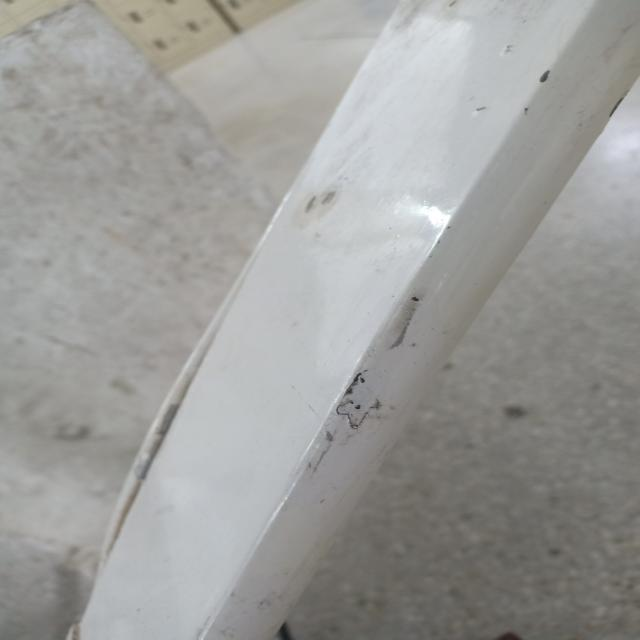Rupture: (299, 318, 402, 484)
